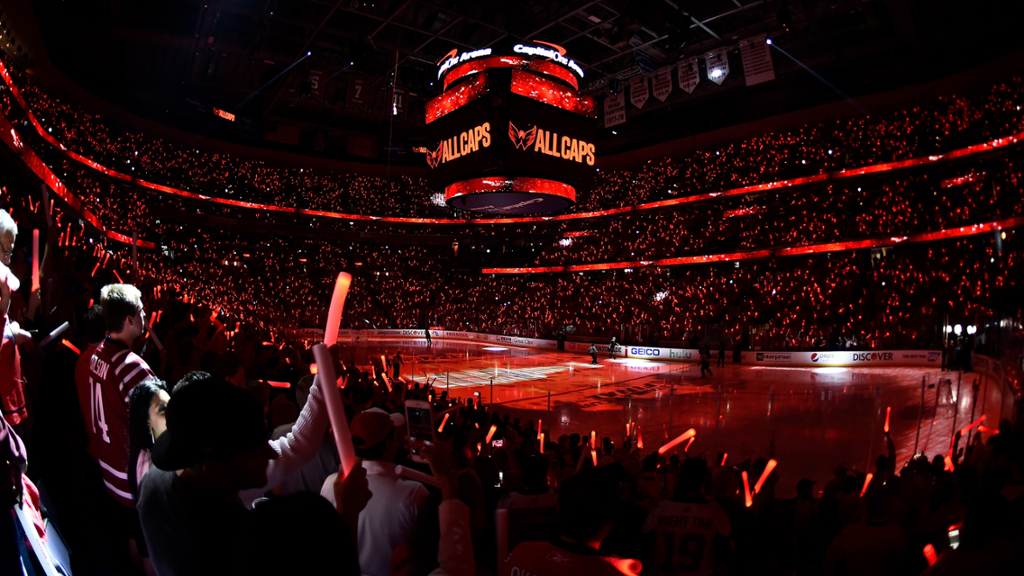geico: (626, 342, 663, 359)
